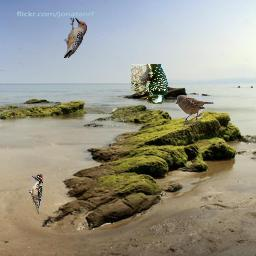Sparrow: (175, 95, 215, 127)
Woodpecker: (131, 64, 168, 104), (64, 18, 87, 58), (29, 174, 43, 214)
